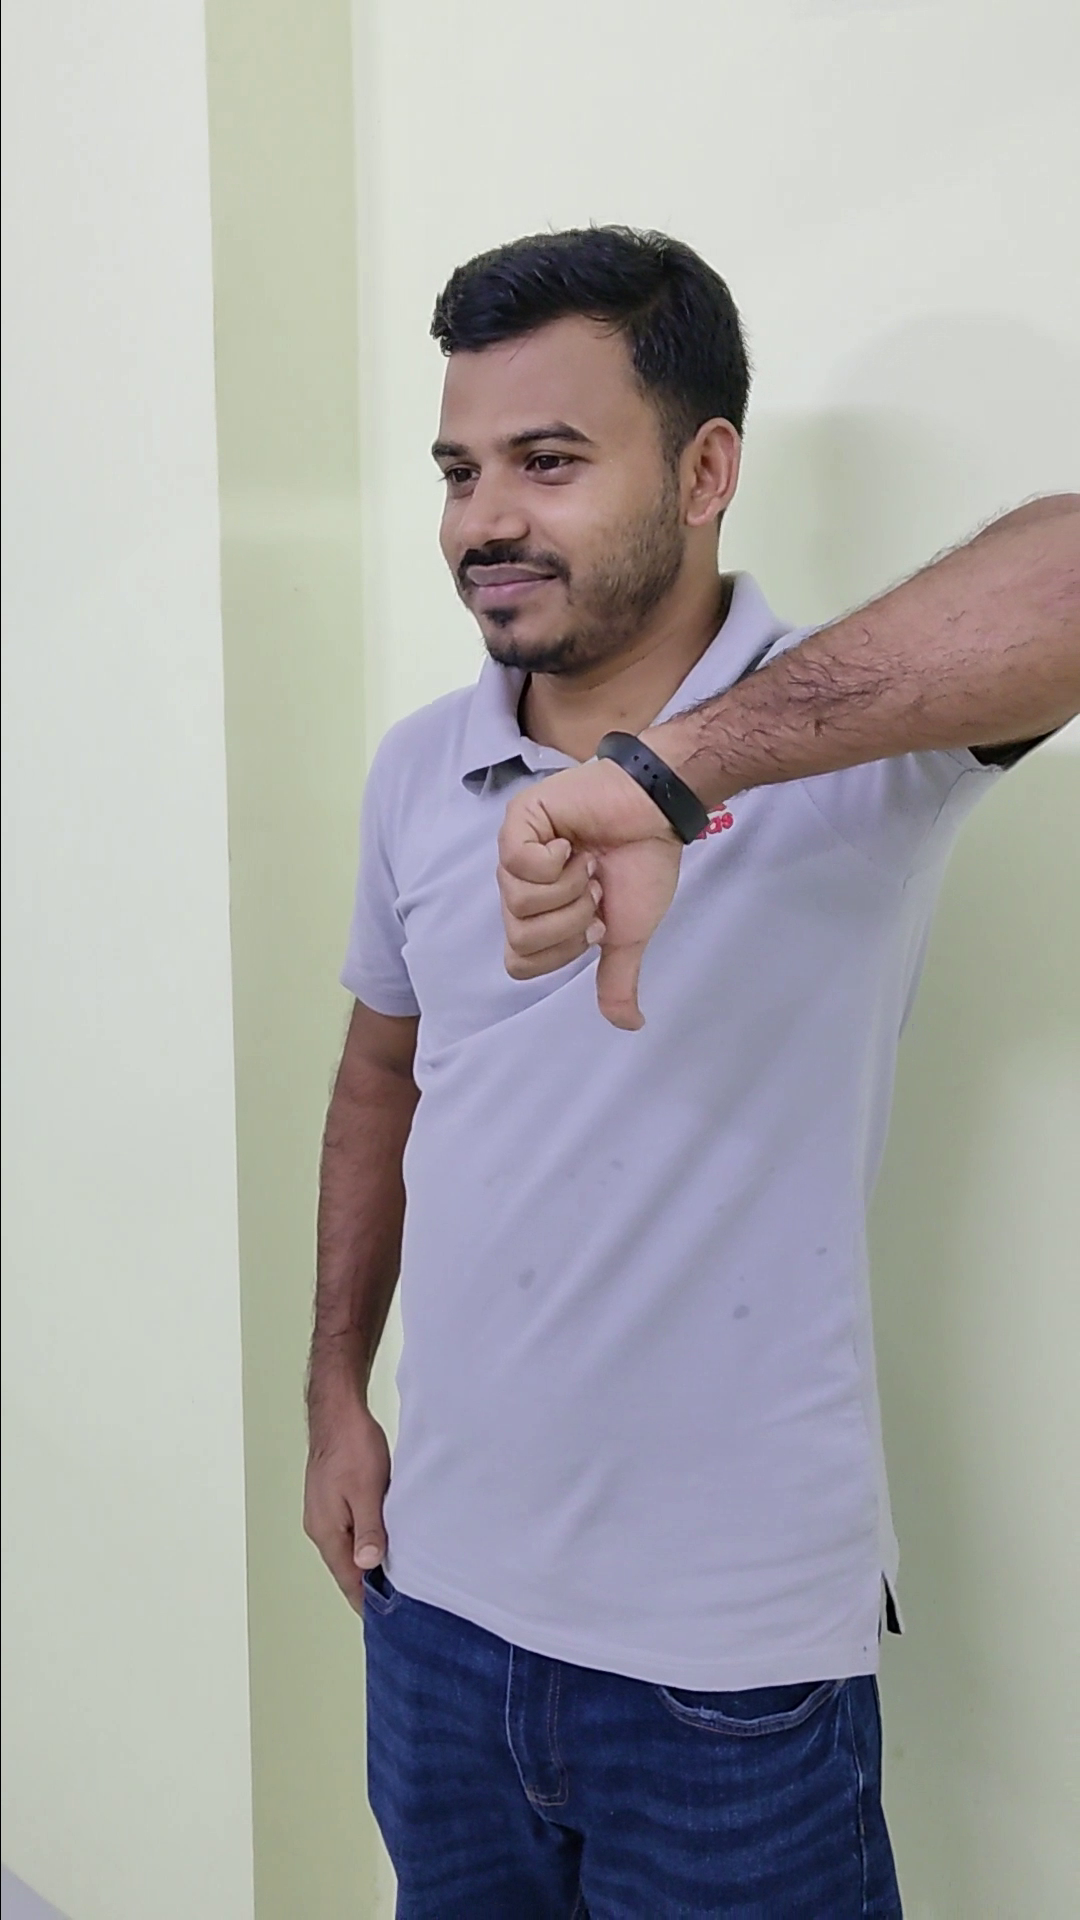Dislike: (472, 717, 703, 1043)
None: (270, 1348, 417, 1642)
